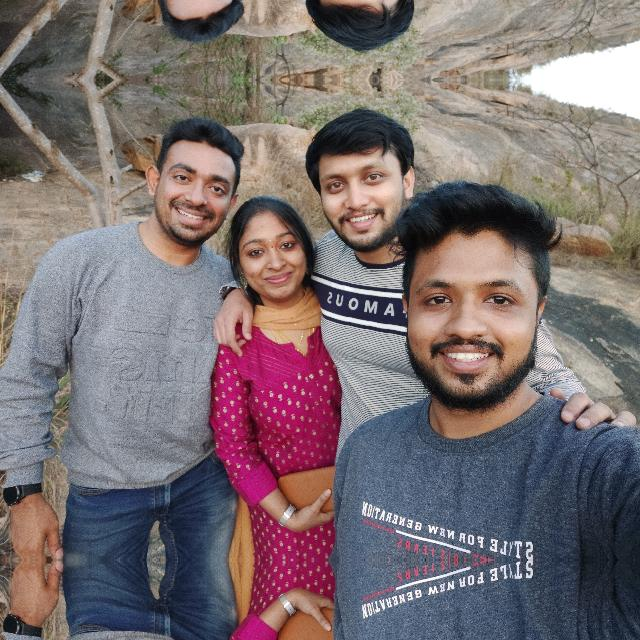person: (365, 166, 635, 548), (71, 101, 280, 363), (176, 171, 347, 332), (297, 100, 446, 278), (71, 0, 280, 59), (401, 572, 580, 640), (297, 0, 446, 60)
